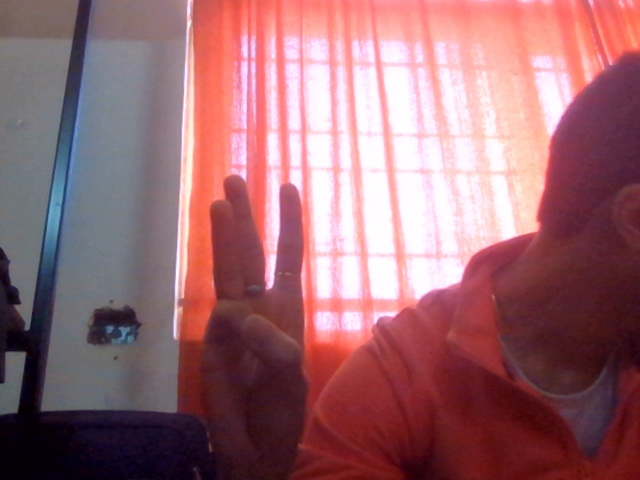W: (178, 135, 382, 480)
